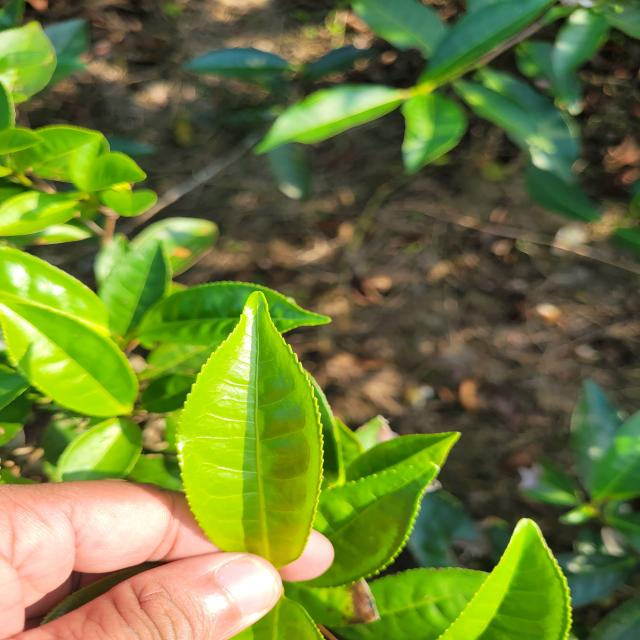Category B(2-4 days): (166, 275, 343, 579)
